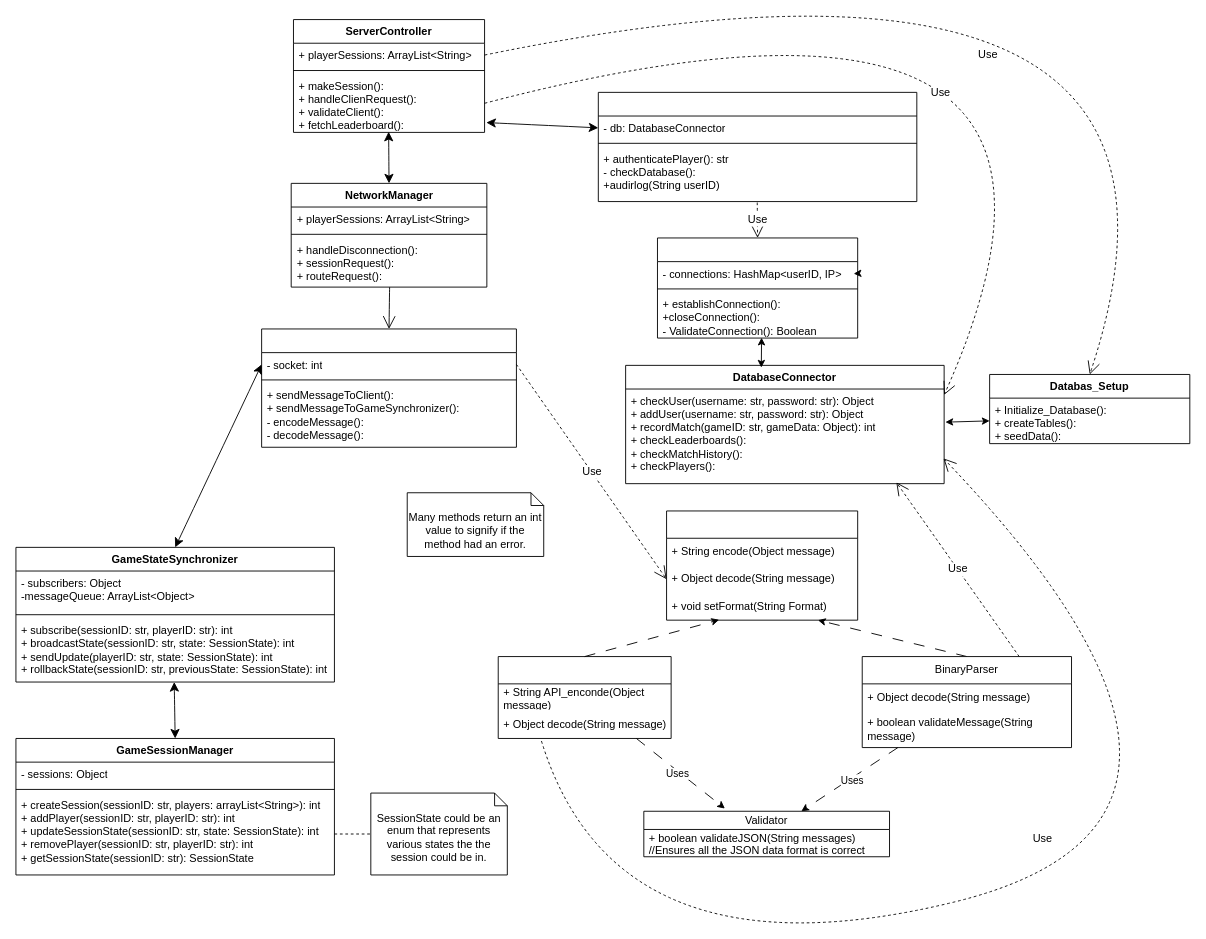
Image size: 1206x939. Some labels were removed from this diagram. The box of each missing label's shape, as (x1, y1, x2, y2) in pixels:
<<Interface>> MessageParser: (666, 510, 858, 620)
AuthHandler: (597, 91, 917, 202)
connectionManager: (657, 237, 858, 338)
JSONParser: (497, 656, 671, 738)
PlayerHandler: (261, 328, 516, 447)
